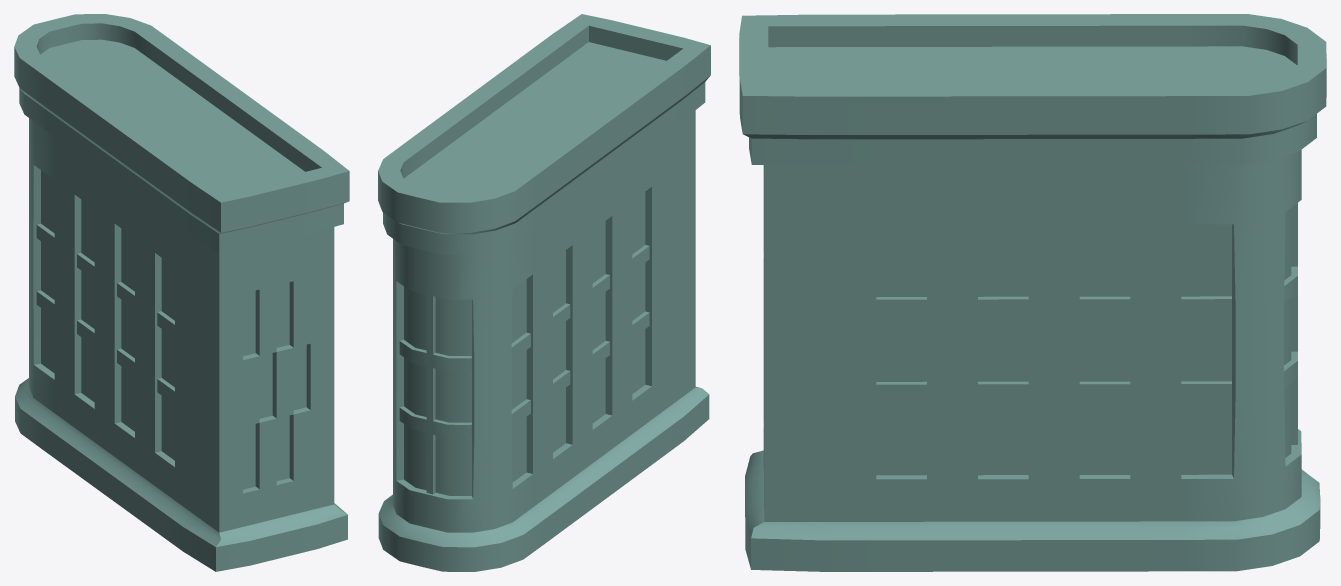
Rendered from building 9.fbx.
3 views of the same model, side by side, from view 1: azimuth 30°, elevation 25°; view 2: azimuth 150°, elevation 25°; view 3: azimuth 270°, elevation 25° (orthographic). The views are drawn at different scales.
Parts seen in each view (by area): view 1: building 9; view 2: building 9; view 3: building 9.
Boxes of the visible parts, x1,y1,x2,y2 form: building 9: [14, 14, 349, 571]; building 9: [378, 14, 710, 571]; building 9: [739, 14, 1326, 571].
Size of the model in its own units: 1131 by 2855 by 3212.
